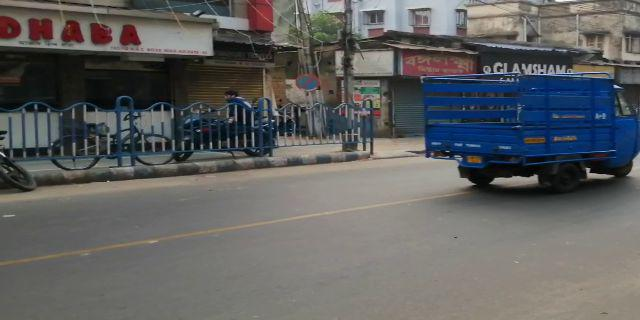Van: (420, 69, 636, 189)
